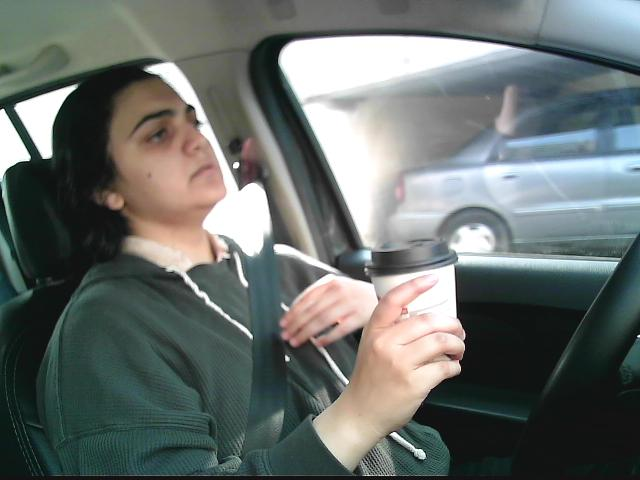Drinking: (367, 232, 467, 387)
